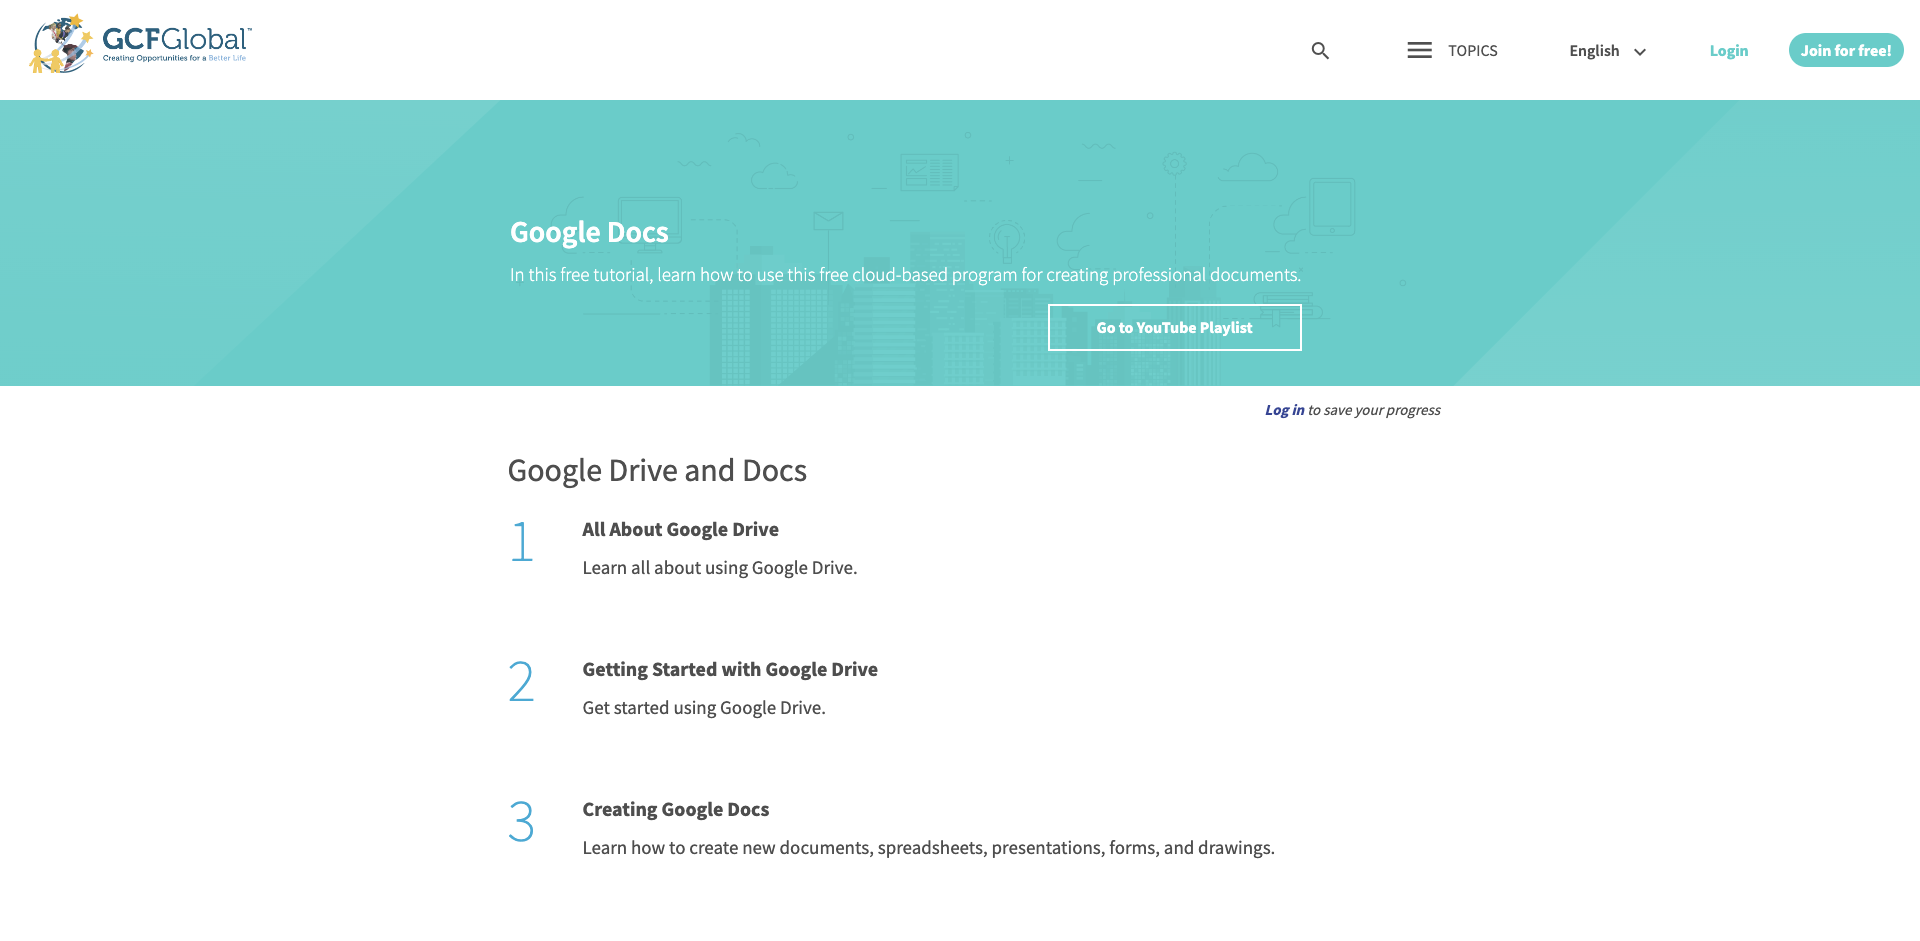button: (1370, 0, 1536, 100), (1536, 0, 1686, 100), (1271, 0, 1370, 100)
dropdown: (1536, 0, 1686, 100), (1398, 34, 1435, 66)
link: (583, 543, 1397, 582), (583, 684, 1397, 722), (583, 823, 1397, 861), (0, 0, 290, 100), (1047, 304, 1302, 350), (583, 654, 888, 684), (583, 515, 789, 543), (583, 794, 779, 823), (507, 654, 583, 723), (507, 794, 583, 863), (507, 515, 583, 582), (1686, 23, 1773, 76), (1789, 33, 1904, 67), (583, 935, 867, 941), (1265, 399, 1304, 419), (507, 935, 583, 941)
